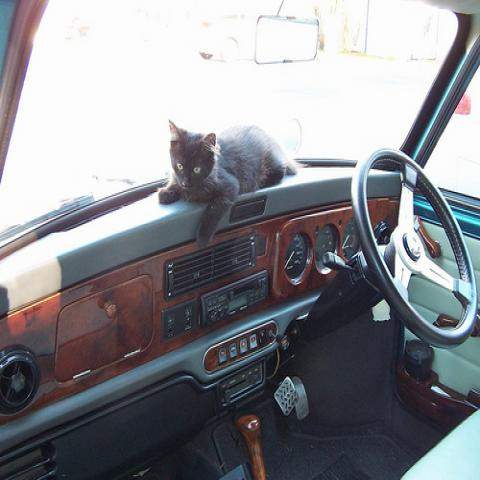car: (0, 0, 479, 458)
